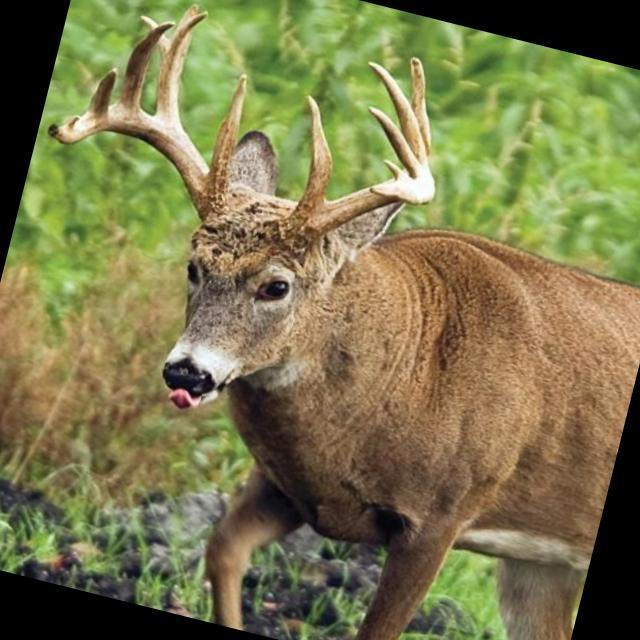E1: (383, 159, 412, 181), (194, 11, 208, 26)
L-F: (279, 180, 435, 250)
L-G1: (301, 94, 333, 204)
L-G3: (368, 60, 431, 175)
L-G4: (367, 105, 426, 180)
R-F: (45, 102, 228, 224)
R-G1: (208, 71, 248, 185)
R-G2: (155, 2, 198, 126)
R-G3: (118, 22, 174, 108)
R-G4: (87, 68, 118, 116)
